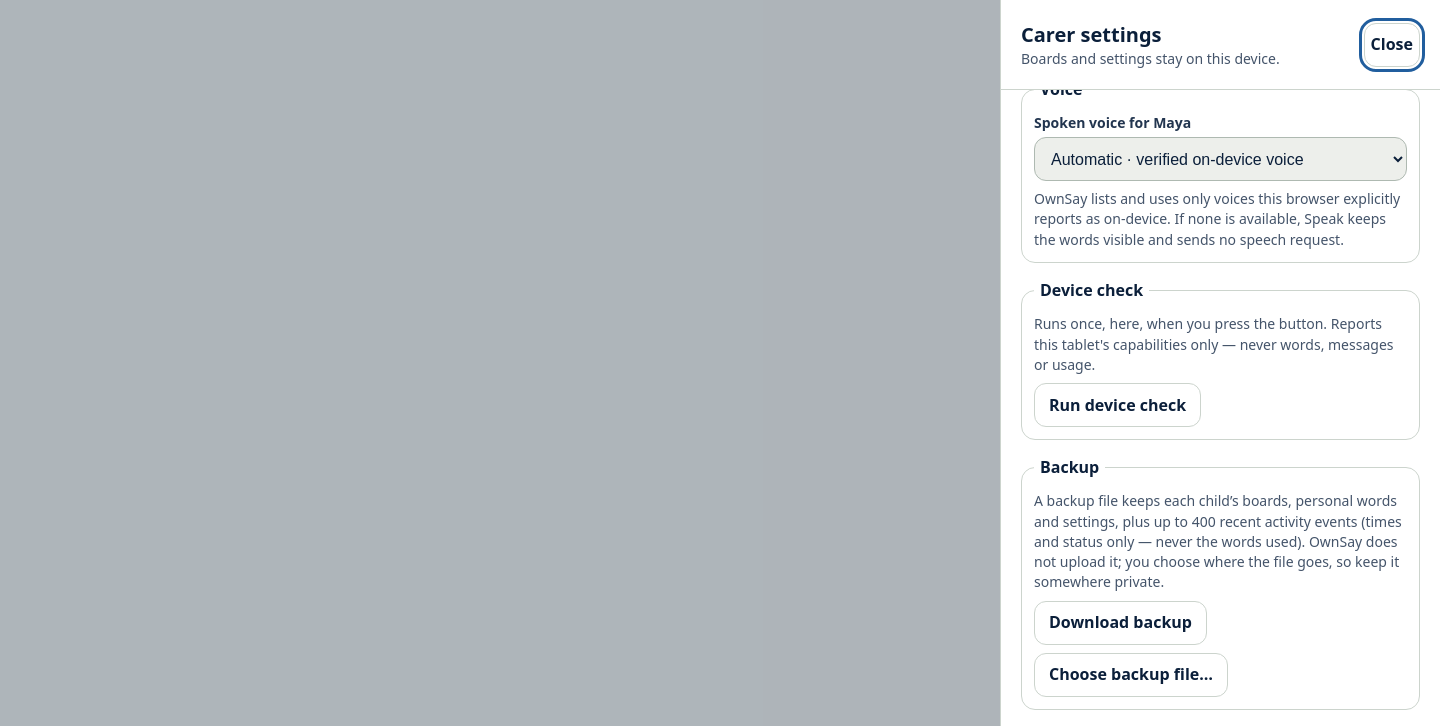
Test: carer drawer › device check audible proof › never runs the speech test by itself and keeps capability evidence separate
The width and height of the screenshot is (1440, 726).
(page scrolled)
Click the button "Run device check": coordinates (1118, 405) [1034,383,1201,427]
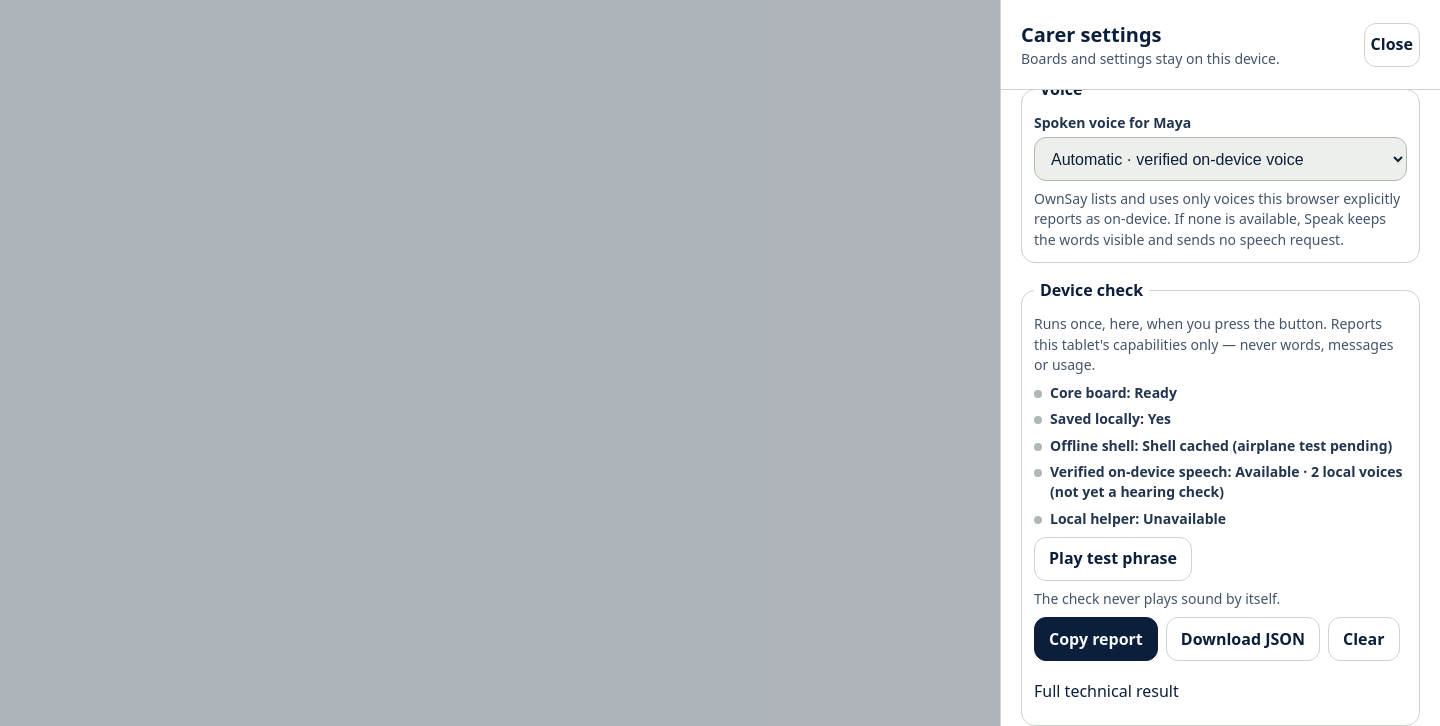
Expected: the list item "Verified on-device speech:" is shown, [1050,462,1232,481]
Expected: the dialog "Carer settings" shows "not yet a hearing check", [1050,462,1402,501]
Expected: the button "Play test phrase" is enabled, [1034,537,1192,581]
